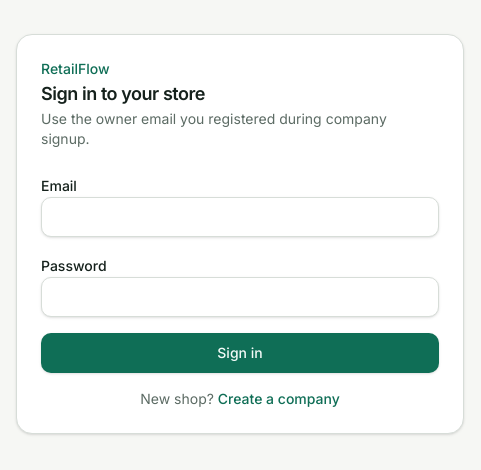
Scenario: login failure › shows an error and stays on the form
The width and height of the screenshot is (481, 470).
Type "owner@shop.test" into the field labelled "Email" at (240, 217), box [41,197,439,237]
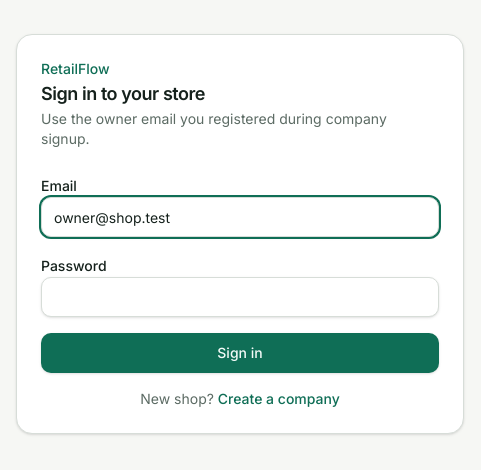
Type "wrong-password" into the password field labelled "Password" at (240, 297), box [41,277,439,317]
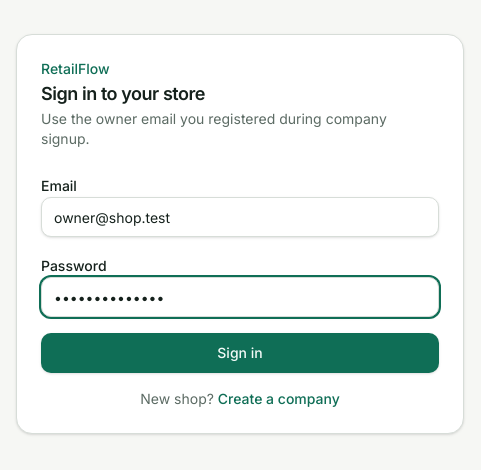
Click the button "Sign in" at (240, 353), box [41,333,439,373]
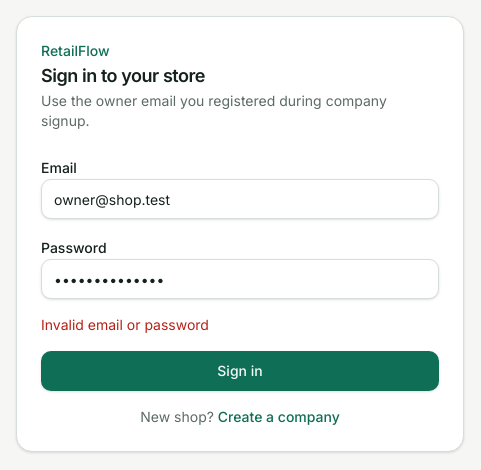
Expected: the text "Invalid email or password" is shown, [41,316,209,333]
